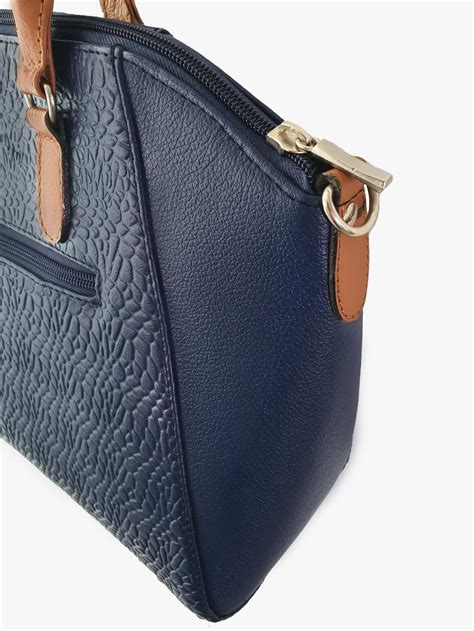cuero: (2, 1, 379, 620)
